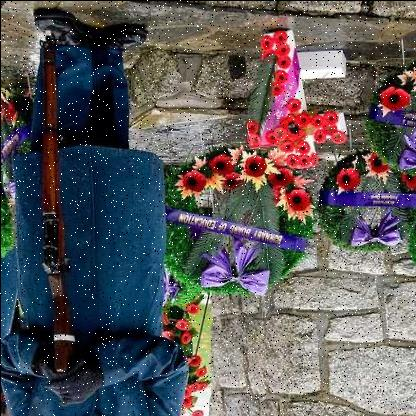rifle: (29, 35, 75, 382)
